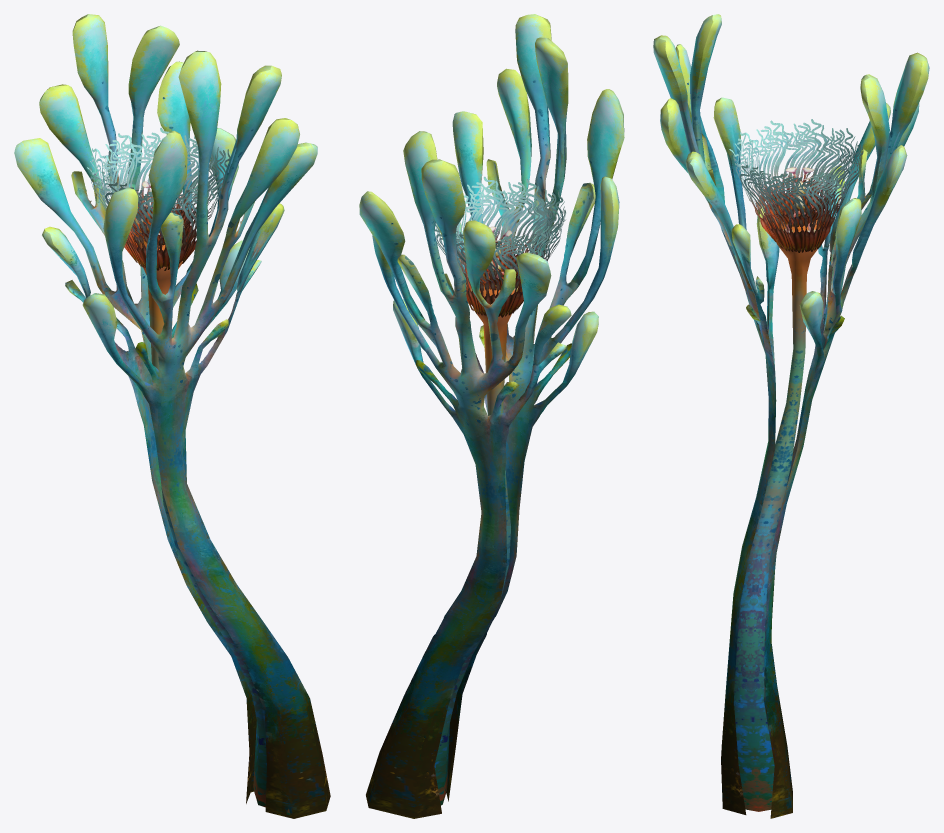
File: alga1.fbx
3 renders of one model, left to right at view 1: azimuth 30°, elevation 25°; view 2: azimuth 150°, elevation 25°; view 3: azimuth 270°, elevation 25°, orthographic. The views are drawn at different scales.
Parts seen in each view (by area): view 1: mesh_LOD1_0.013; view 2: mesh_LOD1_0.013; view 3: mesh_LOD1_0.013.
Boxes of the visible parts, box(x1,y1,x2,y2) form: mesh_LOD1_0.013: box(14, 14, 330, 818); mesh_LOD1_0.013: box(359, 14, 624, 818); mesh_LOD1_0.013: box(653, 14, 929, 818).
Size of the model in its own units: 1.07 by 3.26 by 1.11.
2 materials, 2 textured.
